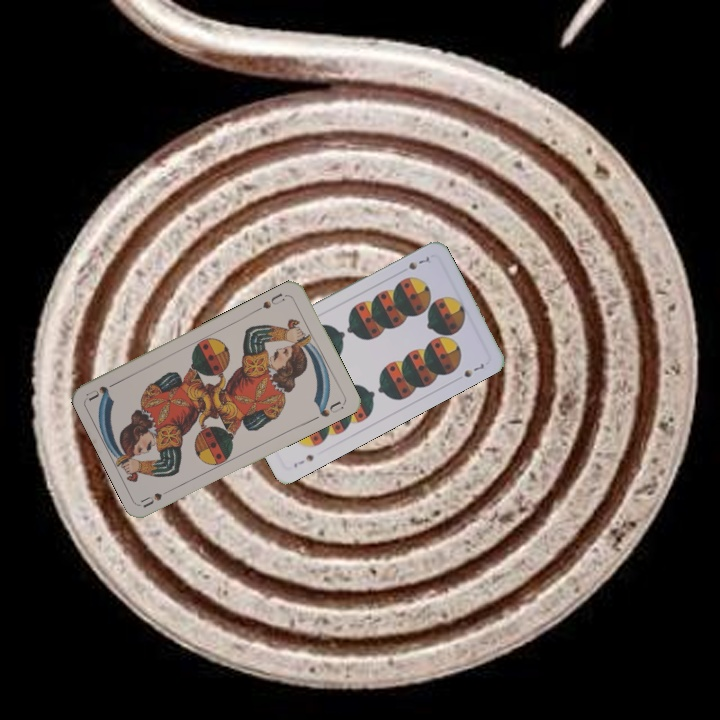S7: (404, 252, 432, 273), (289, 450, 316, 470)
SU: (138, 483, 177, 510), (253, 289, 291, 314)
